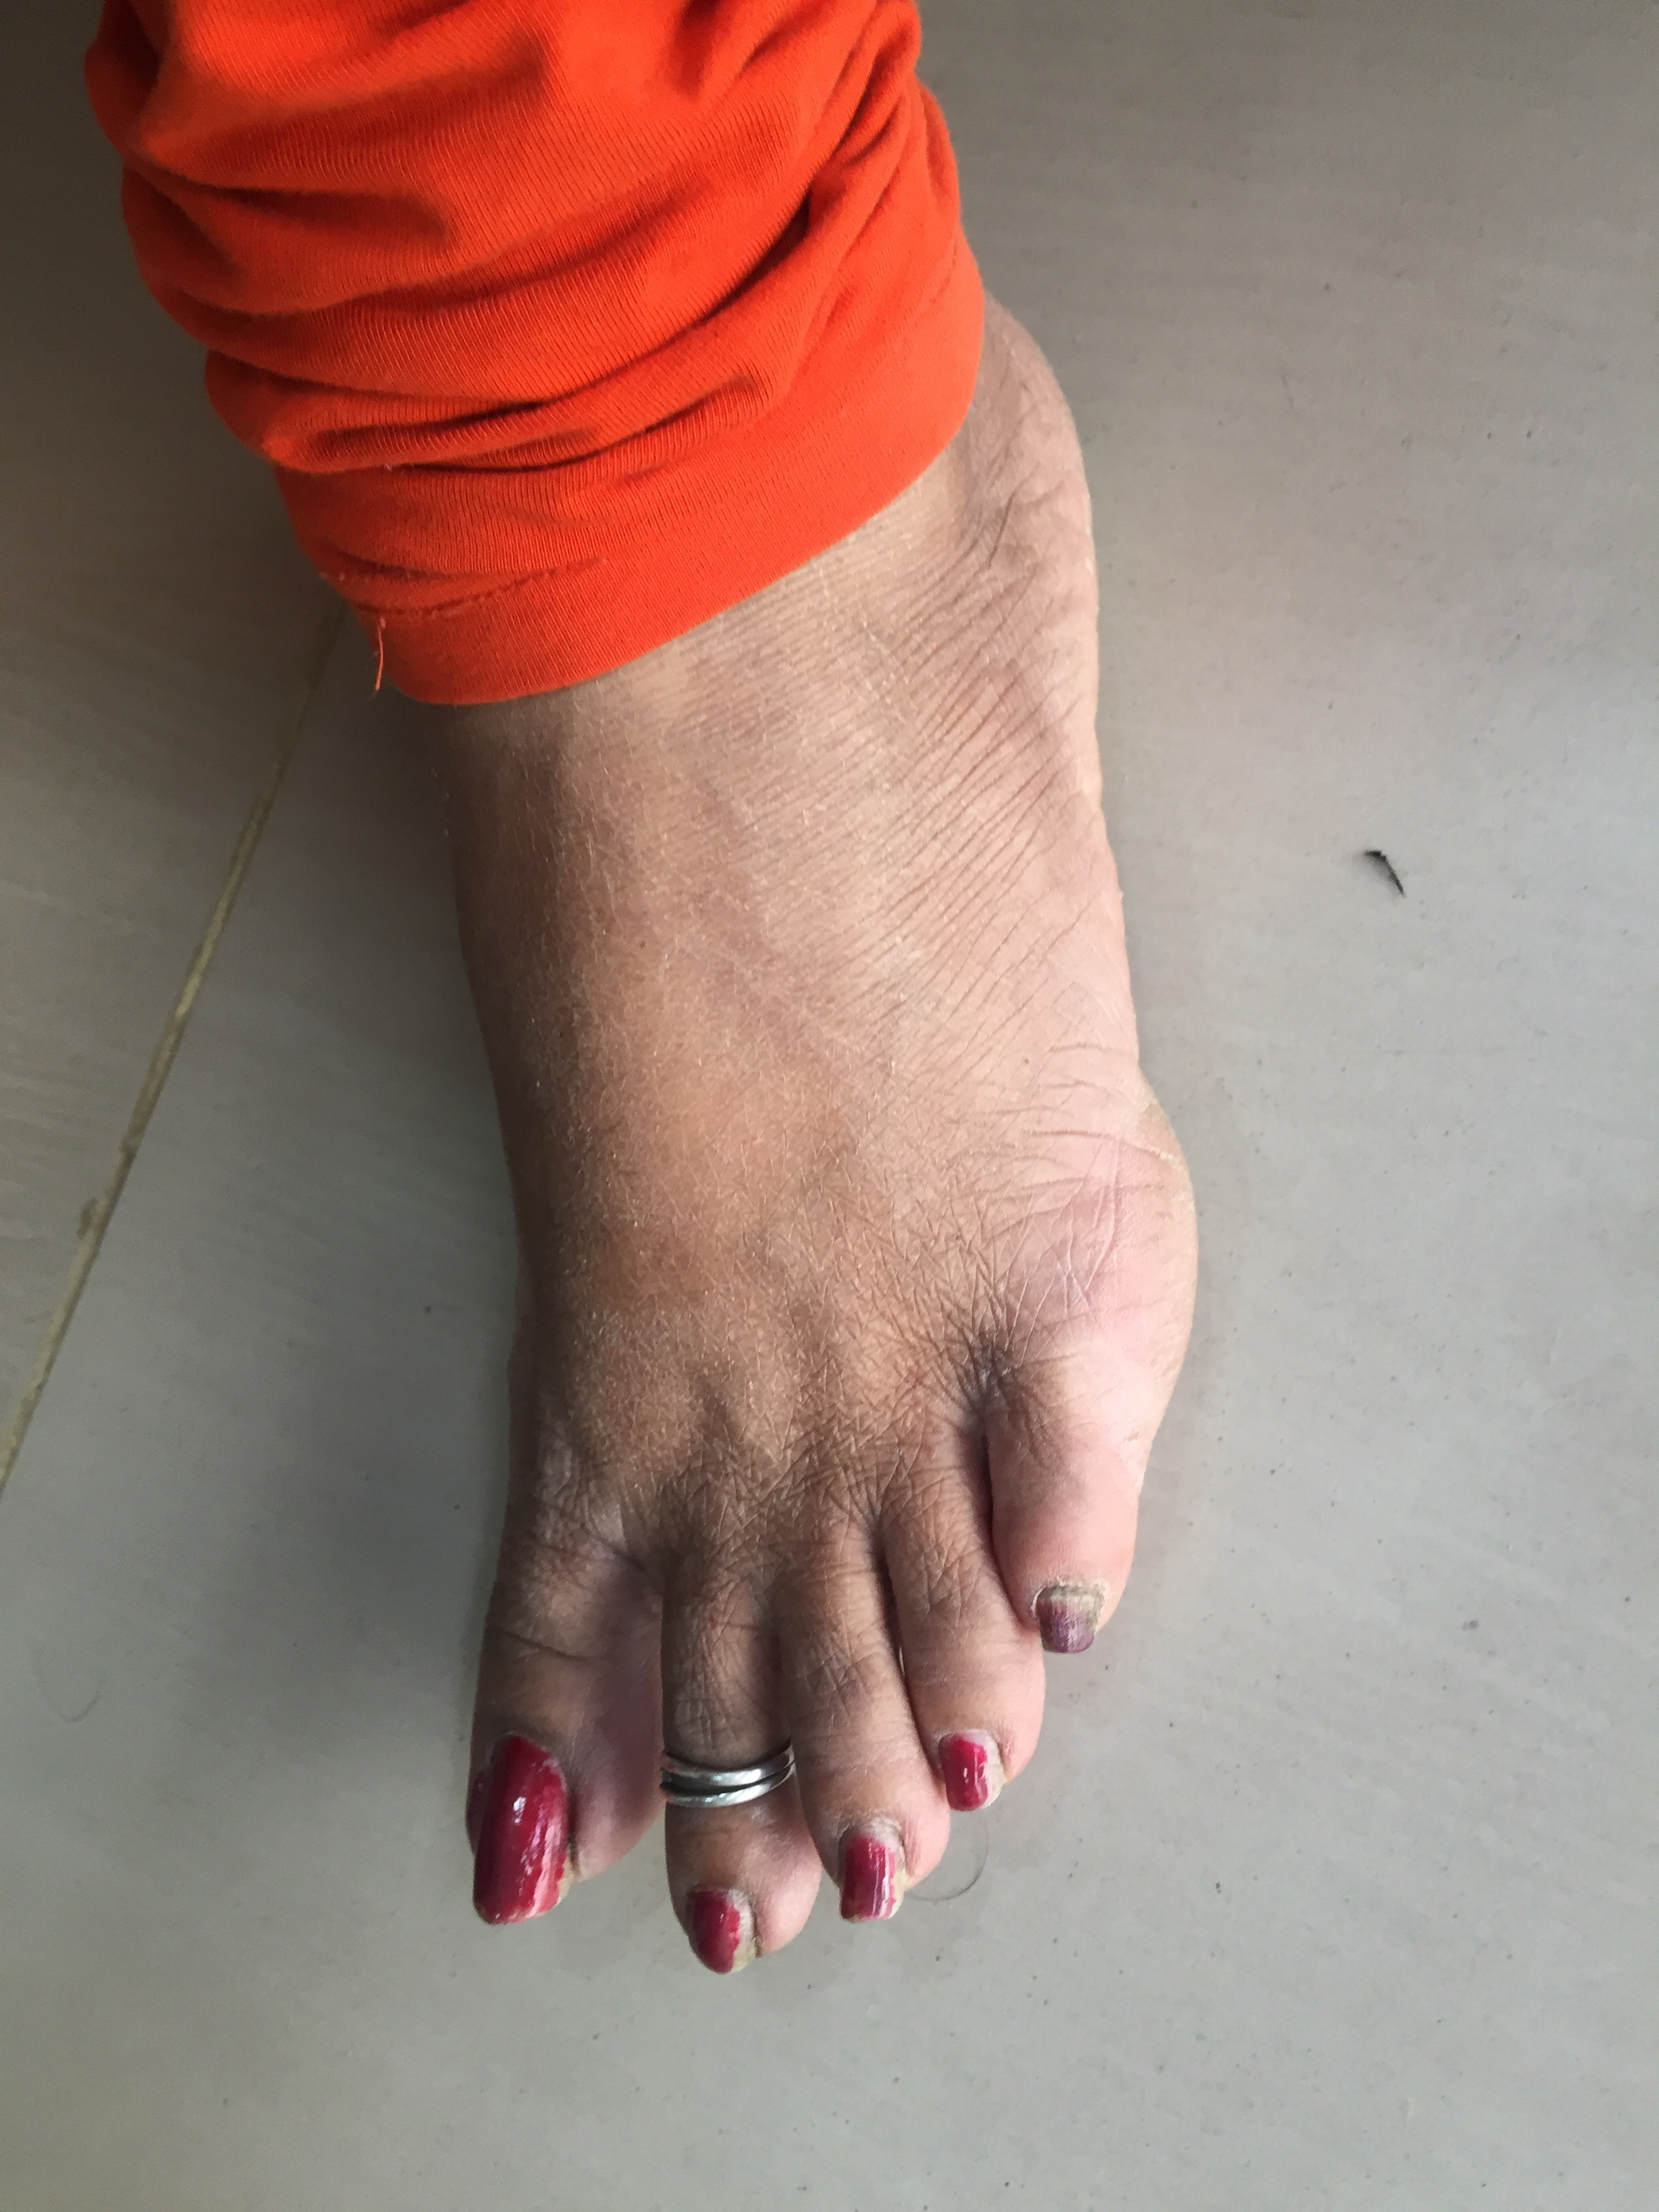feet: (75, 247, 1218, 1970)
